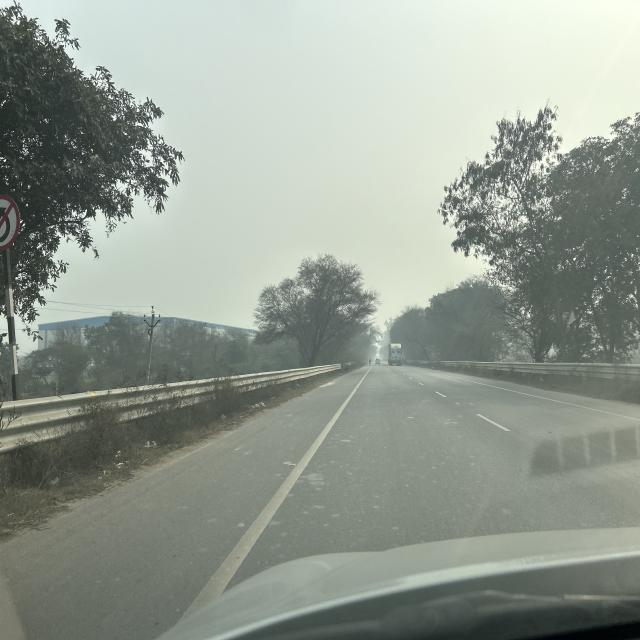OVERTAKING_PROHIBITED: (0, 194, 21, 254)
